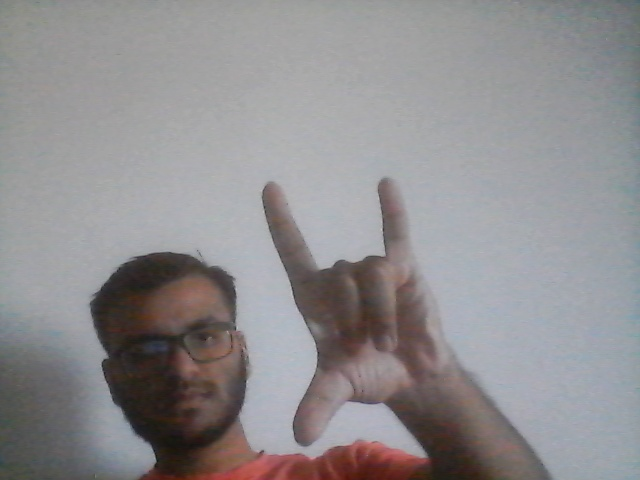I Love You: (256, 169, 475, 445)
